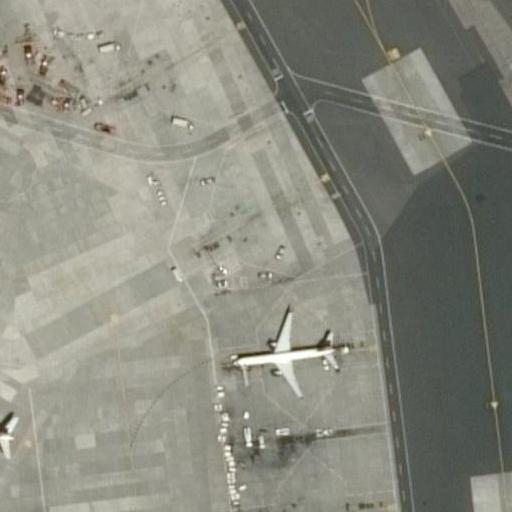Aircraft: (221, 303, 349, 400), (0, 357, 21, 486)
